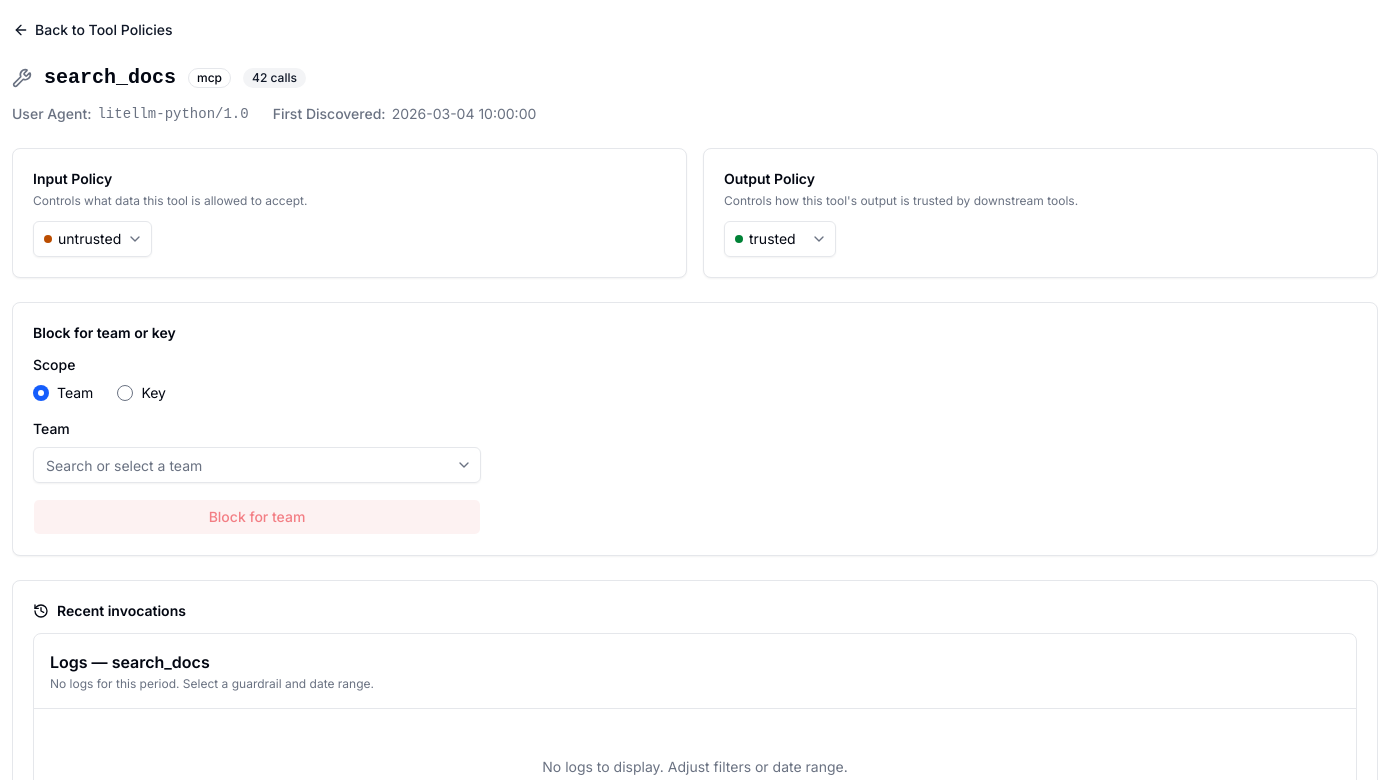
Test: ToolDetail › switches the block scope to a key
Expected: the heading "Block for team or key" is shown, [33,324,176,341]
What coordinates should you click on to do the following:
click the radio button labelled "Key"
I would click on:
 (125, 393)
Its box is [117,385,133,401].
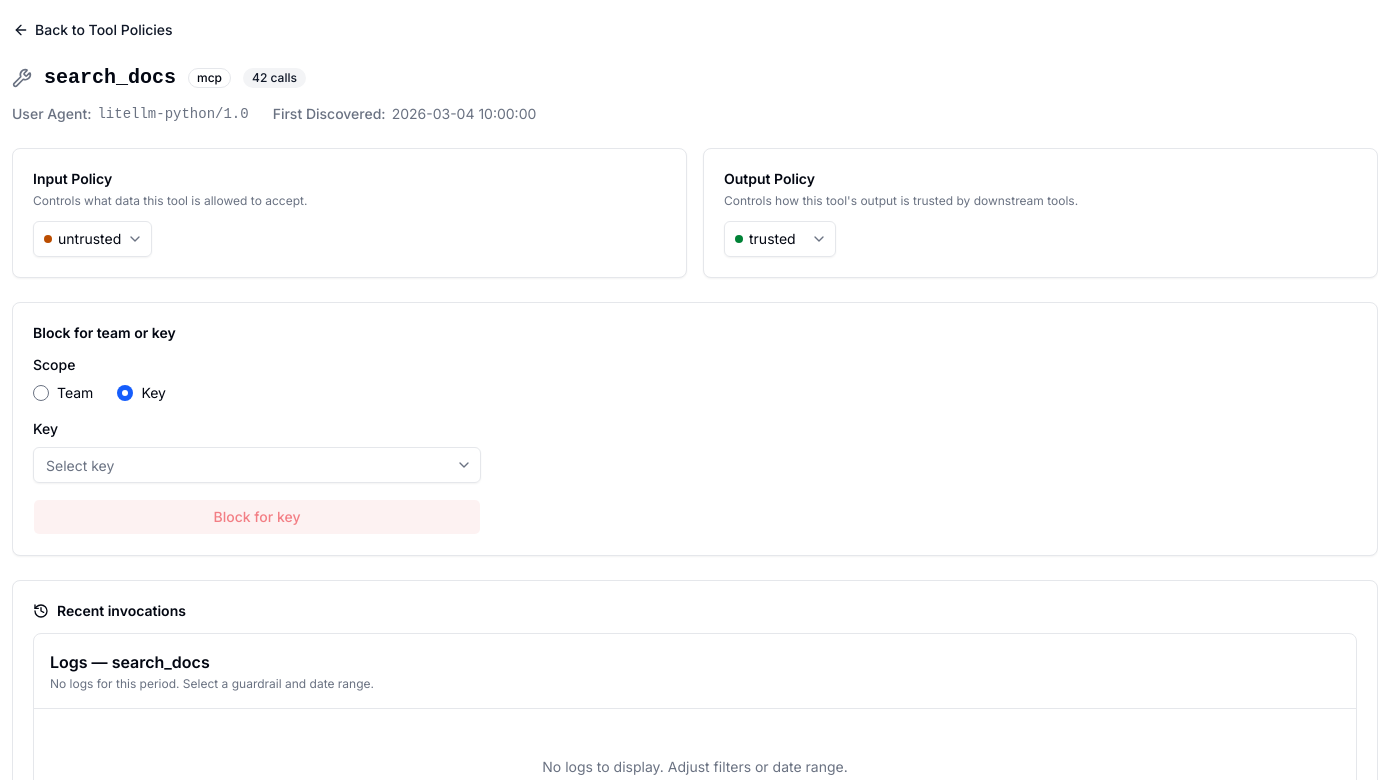
Expected: the button "Block for key" is shown, [33,499,481,535]
